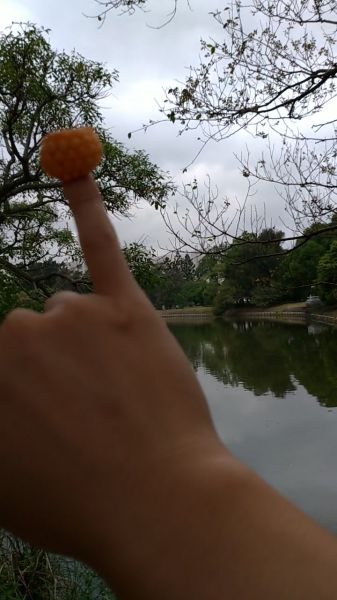eggs: (39, 128, 104, 178)
